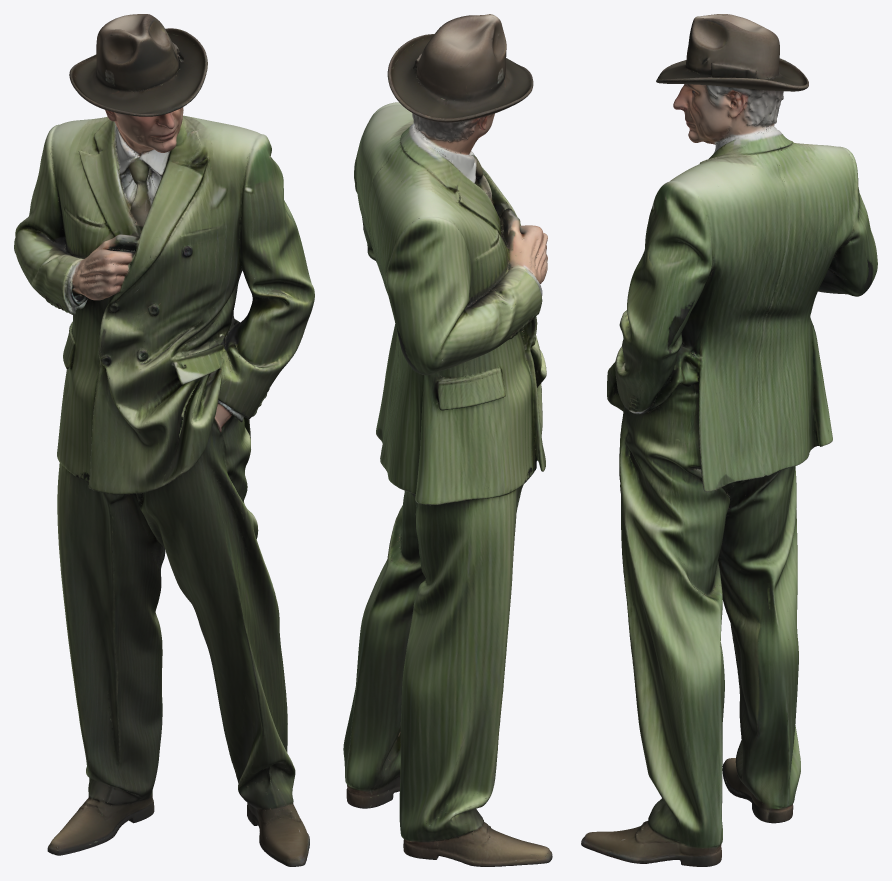
Rendered from Meshy_AI_Luca_Santoro_0129175635_texture.fbx.
3 renders of one model, left to right at view 1: azimuth 30°, elevation 25°; view 2: azimuth 150°, elevation 25°; view 3: azimuth 270°, elevation 25°, orthographic. The views are drawn at different scales.
Visible parts, largest first — view 1: Mesh_0; view 2: Mesh_0; view 3: Mesh_0.
Boxes of the visible parts, box(x1,y1,x2,y2) form: Mesh_0: box(14, 14, 314, 866); Mesh_0: box(343, 14, 552, 866); Mesh_0: box(581, 14, 877, 866).
Bounding box in the file's own units: 57 × 200 × 68.23.
1 material, 1 textured.
